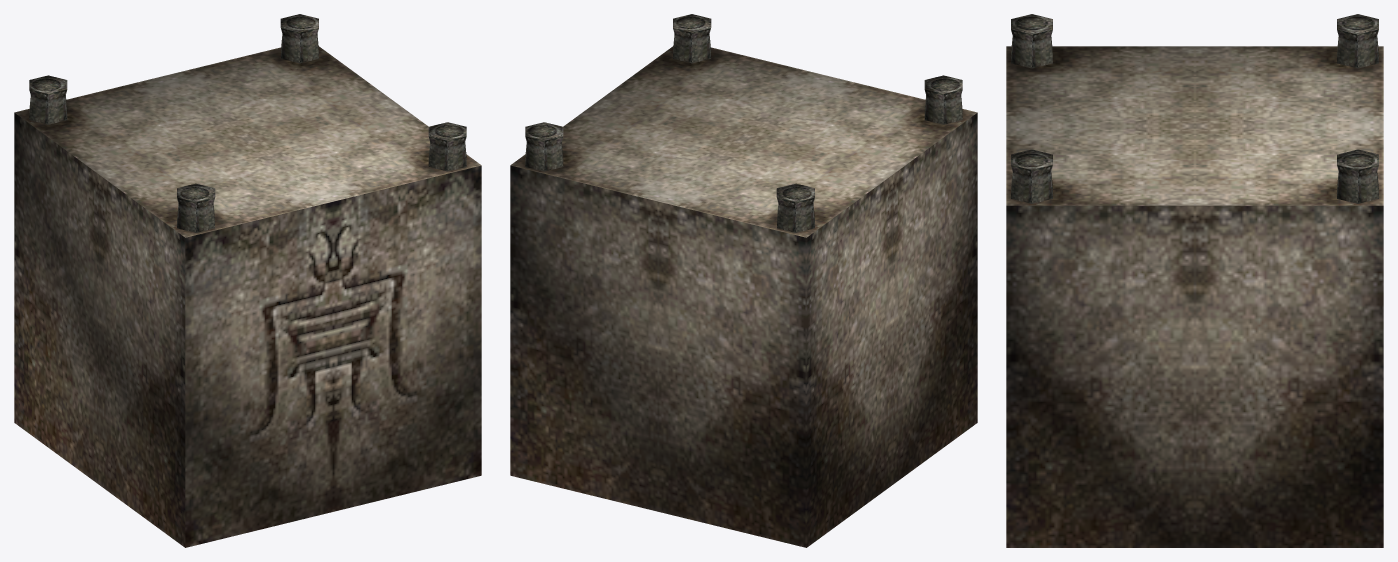
The model's file is landmark_grandstone01.glb.
3 renders of one model, left to right at view 1: azimuth 30°, elevation 25°; view 2: azimuth 150°, elevation 25°; view 3: azimuth 270°, elevation 25°, orthographic. The views are drawn at different scales.
Parts seen in each view (by area): view 1: Object01; view 2: Object01; view 3: Object01.
Part boxes in pixels (bbox=[...]): Object01: bbox=[14, 14, 481, 547]; Object01: bbox=[510, 14, 977, 547]; Object01: bbox=[1006, 14, 1383, 547].
Bounding box in the file's own units: 4.64 × 5.1 × 4.64.
Materials: 1 (1 with a texture image).
